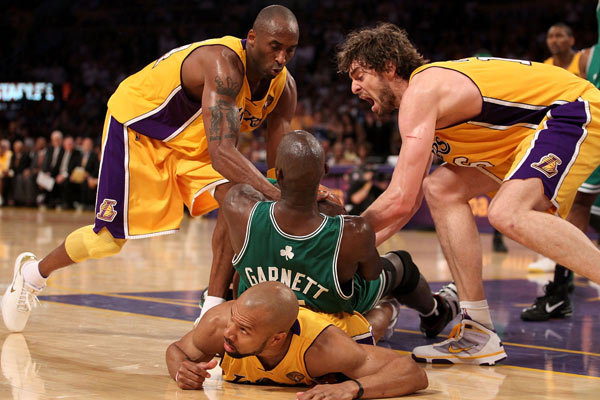10+: (1, 1, 600, 339)
down: (210, 128, 461, 342), (164, 277, 432, 400)
